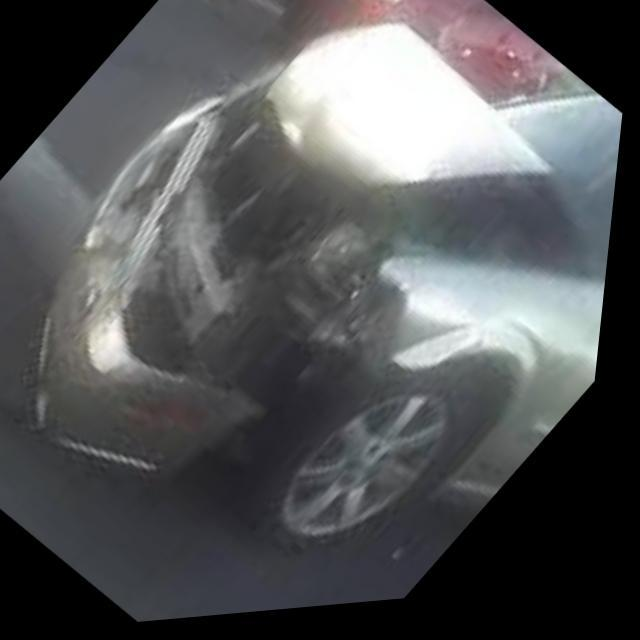dislocated part: (41, 25, 613, 484)
